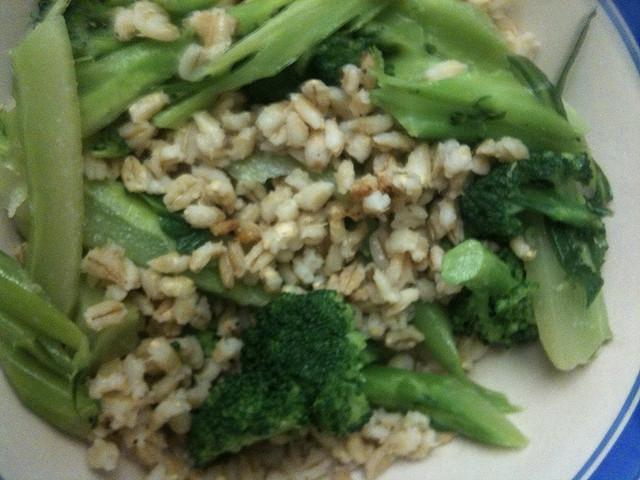broccoli: (183, 287, 532, 480), (369, 68, 593, 160), (440, 238, 540, 354), (460, 162, 598, 241), (248, 35, 366, 104)
